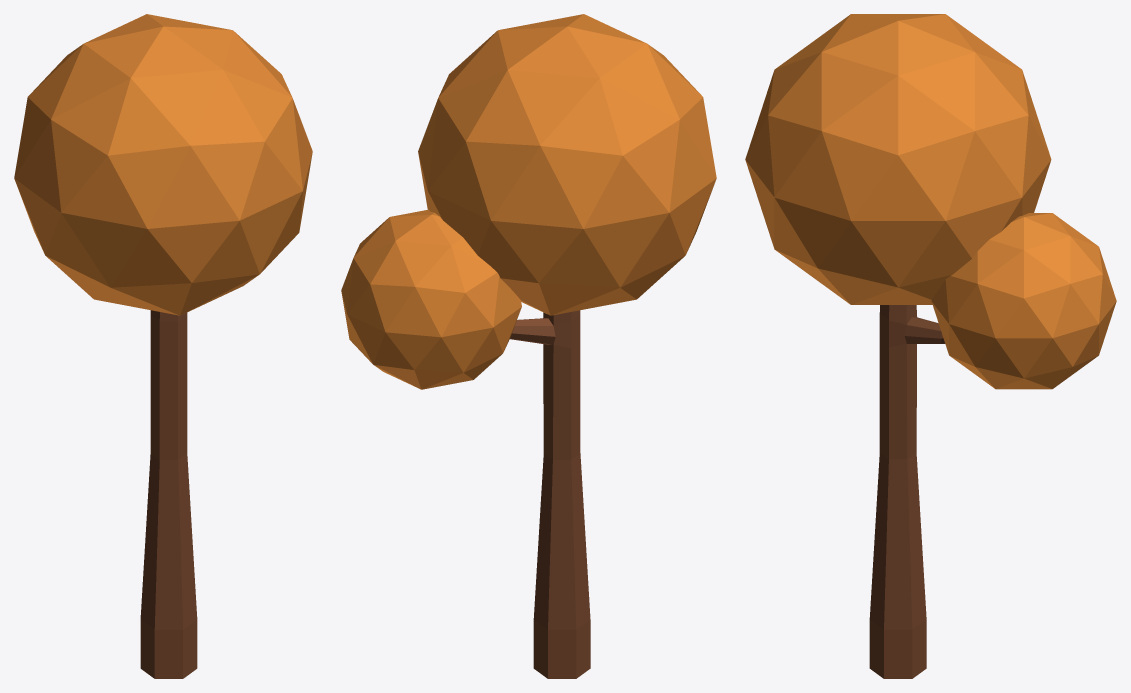
File: CircleTree_Autumn.fbx
3 views of the same model, side by side, from view 1: azimuth 30°, elevation 25°; view 2: azimuth 150°, elevation 25°; view 3: azimuth 270°, elevation 25° (orthographic).
Parts seen in each view (by area): view 1: CircleTree_Autumn; view 2: CircleTree_Autumn; view 3: CircleTree_Autumn.
Part boxes in pixels (x1,y1,x2,y2): CircleTree_Autumn: [14, 14, 312, 678]; CircleTree_Autumn: [341, 14, 716, 678]; CircleTree_Autumn: [745, 14, 1116, 678].
Bounding box in the file's own units: 147 × 330 × 172.
